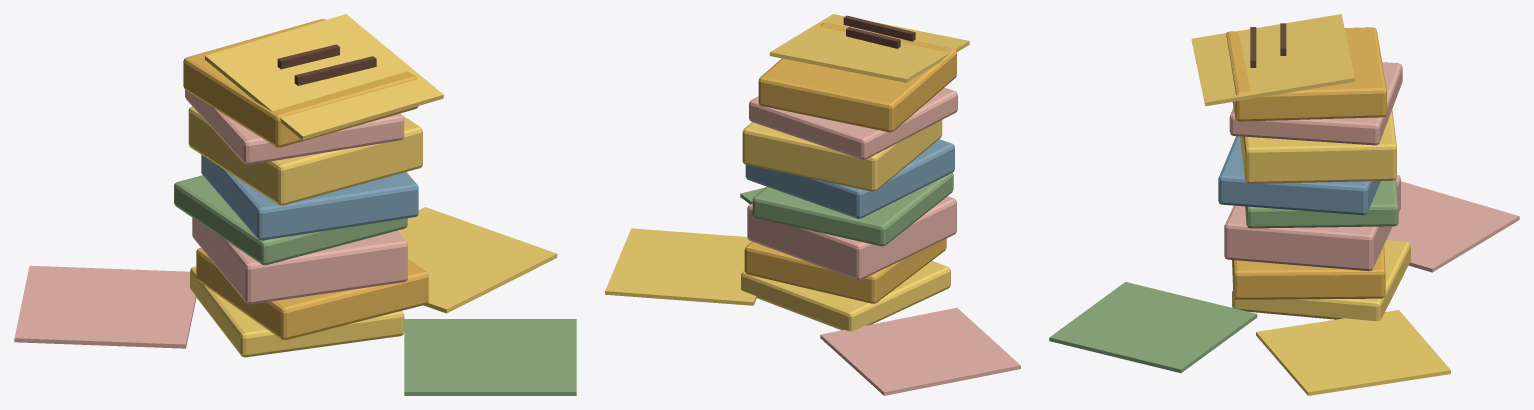
File: sticky_note_stack.glb
The picture shows the model from 3 angles, left to right: view 1: azimuth 30°, elevation 25°; view 2: azimuth 150°, elevation 25°; view 3: azimuth 270°, elevation 25°; orthographic projection. The views are drawn at different scales.
Parts seen in each view (by area): view 1: sticky_note_stack; view 2: sticky_note_stack; view 3: sticky_note_stack.
Part boxes in pixels (left/top/right/bottom): sticky_note_stack: left=14, top=14, right=576, bottom=395; sticky_note_stack: left=605, top=14, right=1020, bottom=395; sticky_note_stack: left=1049, top=14, right=1519, bottom=395.
Bounding box in the file's own units: 0.2516 × 0.136 × 0.2348.
